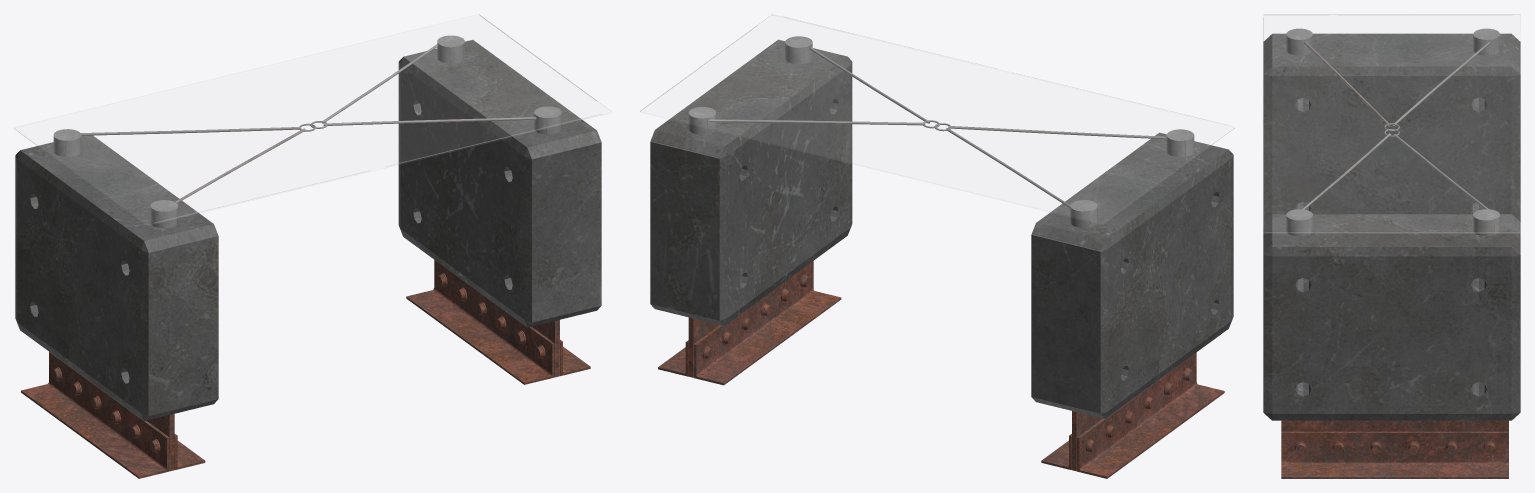
The model's file is industrial_concrete_and_metal_desk (1).glb.
The picture shows the model from 3 angles, left to right: view 1: azimuth 30°, elevation 25°; view 2: azimuth 150°, elevation 25°; view 3: azimuth 270°, elevation 25°; orthographic projection. The views are drawn at different scales.
Visible parts, largest first — view 1: concrete_leg_1, concrete_leg_2, Plane.003, Plane.001, glass, BezierCurve.002, BezierCurve.001, Cylinder.003, Cylinder.001, Cylinder.002, Cylinder; view 2: concrete_leg_1, concrete_leg_2, Plane.003, Plane.001, BezierCurve.002, BezierCurve.001, glass, Cylinder.001, Cylinder.003, Cylinder.002, Cylinder, Cube (+1 smaller); view 3: concrete_leg_2, concrete_leg_1, Plane, Cube, glass, BezierCurve.002, BezierCurve.001, Cylinder.002, Cylinder, Cylinder.001, Cylinder.003.
Boxes of the visible parts, x1=… form: concrete_leg_1: x1=15, y1=135, x2=218, y2=420; concrete_leg_2: x1=398, y1=40, x2=601, y2=327; Plane.003: x1=21, y1=352, x2=169, y2=478; Plane.001: x1=406, y1=260, x2=554, y2=384; glass: x1=14, y1=14, x2=611, y2=225; BezierCurve.002: x1=81, y1=127, x2=305, y2=203; BezierCurve.001: x1=321, y1=44, x2=536, y2=125; Cylinder.003: x1=53, y1=129, x2=81, y2=157; Cylinder.001: x1=150, y1=200, x2=178, y2=227; Cylinder.002: x1=437, y1=35, x2=464, y2=63; Cylinder: x1=534, y1=106, x2=561, y2=134; concrete_leg_1: x1=1031, y1=132, x2=1233, y2=418; concrete_leg_2: x1=650, y1=39, x2=852, y2=325; Plane.003: x1=1077, y1=352, x2=1224, y2=478; Plane.001: x1=693, y1=261, x2=841, y2=385; BezierCurve.002: x1=946, y1=126, x2=1166, y2=207; BezierCurve.001: x1=708, y1=47, x2=930, y2=125; glass: x1=640, y1=14, x2=1234, y2=224; Cylinder.001: x1=1166, y1=129, x2=1194, y2=157; Cylinder.003: x1=1070, y1=200, x2=1097, y2=227; Cylinder.002: x1=688, y1=107, x2=716, y2=134; Cylinder: x1=785, y1=36, x2=812, y2=64; Cube: x1=688, y1=317, x2=719, y2=377; concrete_leg_2: x1=1263, y1=214, x2=1520, y2=420; concrete_leg_1: x1=1263, y1=33, x2=1520, y2=221; Plane: x1=1281, y1=431, x2=1508, y2=478; Cube: x1=1281, y1=420, x2=1508, y2=431; glass: x1=1263, y1=14, x2=1520, y2=233; BezierCurve.002: x1=1304, y1=41, x2=1490, y2=126; BezierCurve.001: x1=1302, y1=133, x2=1488, y2=209; Cylinder.002: x1=1473, y1=209, x2=1499, y2=236; Cylinder: x1=1286, y1=209, x2=1312, y2=236; Cylinder.001: x1=1286, y1=28, x2=1312, y2=55; Cylinder.003: x1=1473, y1=28, x2=1499, y2=55.
Size of the model in its own units: 403 by 216 by 200.
Materials: 1 (1 with a texture image).
